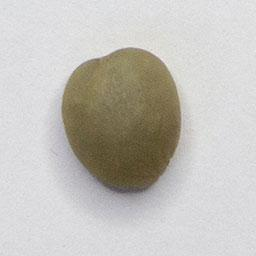premium: (58, 44, 186, 196)
